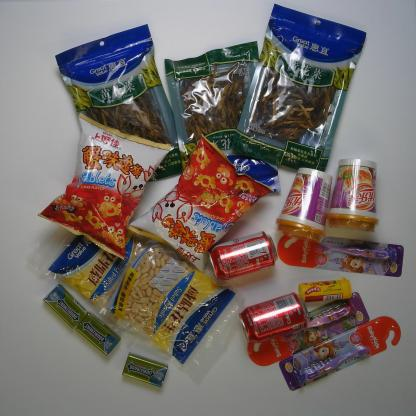Candy: (296, 278, 352, 301)
Dried Food: (231, 2, 366, 178), (54, 23, 187, 192), (163, 40, 279, 203)
Dried Fruit: (90, 230, 245, 372), (28, 199, 191, 333)
Drink: (208, 230, 280, 280), (238, 292, 308, 340)
Gum: (42, 284, 88, 328), (74, 313, 121, 355), (119, 352, 168, 387)
Instant Drink: (275, 167, 332, 243), (328, 157, 379, 234)
Personal Hygiene: (244, 289, 372, 367), (277, 315, 401, 392), (274, 231, 404, 279)
Puffed Food: (127, 135, 274, 276), (36, 112, 172, 262)
